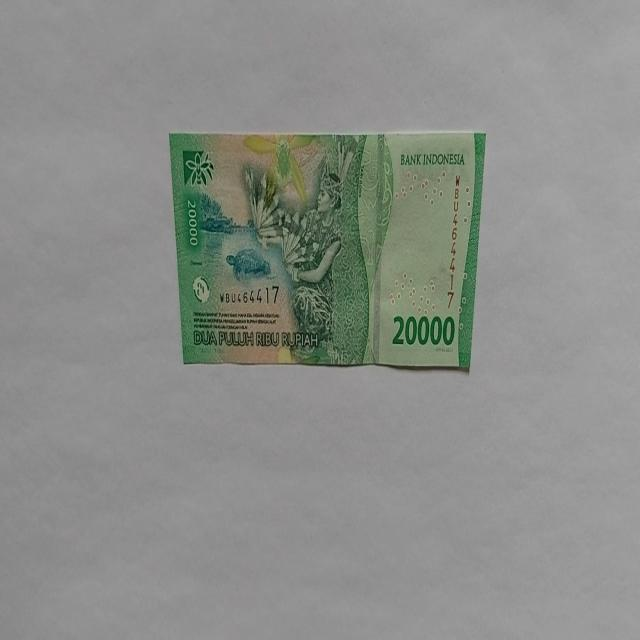dua puluh ribu rupiah: (168, 128, 486, 372)
